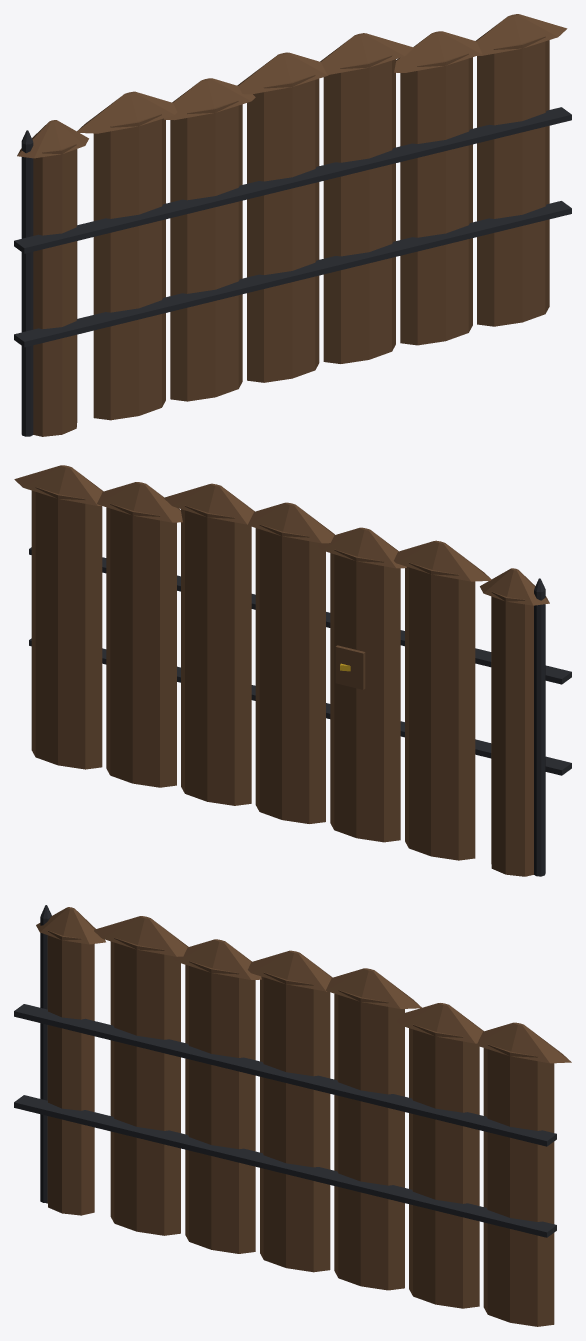
File: SM_Fence_KeepPalisade_03_Straight.glb
3 views of the same model, one above another, from view 1: azimuth 30°, elevation 25°; view 2: azimuth 150°, elevation 25°; view 3: azimuth 330°, elevation 25° (orthographic). The views are drawn at different scales.
Parts seen in each view (by area): view 1: SM_Fence_KeepPalisade_03_Straight_Log4, SM_Fence_KeepPalisade_03_Straight_Log3, SM_Fence_KeepPalisade_03_Straight_Log1, SM_Fence_KeepPalisade_03_Straight_Log2, SM_Fence_KeepPalisade_03_Straight_Log5, SM_Fence_KeepPalisade_03_Straight_Log6, SM_Fence_KeepPalisade_03_Straight_Log0, SM_Fence_KeepPalisade_03_Straight_Strap1, SM_Fence_KeepPalisade_03_Straight_Strap0, SM_Fence_KeepPalisade_03_Straight_Pivot, SM_Fence_KeepPalisade_03_Straight_Log1_Tip, SM_Fence_KeepPalisade_03_Straight_Log4_Tip (+5 smaller); view 2: SM_Fence_KeepPalisade_03_Straight_Log4, SM_Fence_KeepPalisade_03_Straight_Log3, SM_Fence_KeepPalisade_03_Straight_Log1, SM_Fence_KeepPalisade_03_Straight_Log6, SM_Fence_KeepPalisade_03_Straight_Log5, SM_Fence_KeepPalisade_03_Straight_Log2, SM_Fence_KeepPalisade_03_Straight_Log0, SM_Fence_KeepPalisade_03_Straight_Pivot, SM_Fence_KeepPalisade_03_Straight_Log1_Tip, SM_Fence_KeepPalisade_03_Straight_Log4_Tip, SM_Fence_KeepPalisade_03_Straight_Log3_Tip, SM_Fence_KeepPalisade_03_Straight_Log5_Tip (+6 smaller); view 3: SM_Fence_KeepPalisade_03_Straight_Log3, SM_Fence_KeepPalisade_03_Straight_Log4, SM_Fence_KeepPalisade_03_Straight_Log1, SM_Fence_KeepPalisade_03_Straight_Log2, SM_Fence_KeepPalisade_03_Straight_Log6, SM_Fence_KeepPalisade_03_Straight_Log5, SM_Fence_KeepPalisade_03_Straight_Log0, SM_Fence_KeepPalisade_03_Straight_Strap1, SM_Fence_KeepPalisade_03_Straight_Strap0, SM_Fence_KeepPalisade_03_Straight_Log1_Tip, SM_Fence_KeepPalisade_03_Straight_Log4_Tip, SM_Fence_KeepPalisade_03_Straight_Log6_Tip (+5 smaller).
Part boxes in pixels (box(x1,y1,x2,y2)): SM_Fence_KeepPalisade_03_Straight_Log4: box(323, 55, 395, 363); SM_Fence_KeepPalisade_03_Straight_Log3: box(247, 75, 319, 382); SM_Fence_KeepPalisade_03_Straight_Log1: box(93, 114, 165, 420); SM_Fence_KeepPalisade_03_Straight_Log2: box(170, 100, 242, 401); SM_Fence_KeepPalisade_03_Straight_Log5: box(400, 53, 472, 345); SM_Fence_KeepPalisade_03_Straight_Log6: box(477, 36, 549, 326); SM_Fence_KeepPalisade_03_Straight_Log0: box(33, 144, 77, 436); SM_Fence_KeepPalisade_03_Straight_Strap1: box(14, 107, 571, 253); SM_Fence_KeepPalisade_03_Straight_Strap0: box(14, 201, 571, 347); SM_Fence_KeepPalisade_03_Straight_Pivot: box(21, 142, 33, 436); SM_Fence_KeepPalisade_03_Straight_Log1_Tip: box(77, 91, 177, 133); SM_Fence_KeepPalisade_03_Straight_Log4_Tip: box(320, 33, 413, 74); SM_Fence_KeepPalisade_03_Straight_Log4: box(181, 505, 251, 805); SM_Fence_KeepPalisade_03_Straight_Log3: box(255, 524, 325, 823); SM_Fence_KeepPalisade_03_Straight_Log1: box(405, 562, 475, 860); SM_Fence_KeepPalisade_03_Straight_Log6: box(31, 487, 102, 769); SM_Fence_KeepPalisade_03_Straight_Log5: box(106, 503, 176, 787); SM_Fence_KeepPalisade_03_Straight_Log2: box(330, 549, 400, 842); SM_Fence_KeepPalisade_03_Straight_Log0: box(491, 592, 533, 876); SM_Fence_KeepPalisade_03_Straight_Pivot: box(534, 589, 545, 876); SM_Fence_KeepPalisade_03_Straight_Log1_Tip: box(394, 540, 491, 581); SM_Fence_KeepPalisade_03_Straight_Log4_Tip: box(164, 483, 254, 524); SM_Fence_KeepPalisade_03_Straight_Log3_Tip: box(246, 502, 334, 543); SM_Fence_KeepPalisade_03_Straight_Log5_Tip: box(97, 482, 182, 522); SM_Fence_KeepPalisade_03_Straight_Log3: box(260, 972, 330, 1272); SM_Fence_KeepPalisade_03_Straight_Log4: box(334, 990, 404, 1290); SM_Fence_KeepPalisade_03_Straight_Log1: box(110, 938, 180, 1235); SM_Fence_KeepPalisade_03_Straight_Log2: box(185, 961, 255, 1253); SM_Fence_KeepPalisade_03_Straight_Log6: box(483, 1044, 554, 1326); SM_Fence_KeepPalisade_03_Straight_Log5: box(409, 1024, 479, 1308); SM_Fence_KeepPalisade_03_Straight_Log0: box(47, 930, 94, 1215); SM_Fence_KeepPalisade_03_Straight_Strap1: box(14, 1004, 556, 1146); SM_Fence_KeepPalisade_03_Straight_Strap0: box(14, 1095, 556, 1237); SM_Fence_KeepPalisade_03_Straight_Log1_Tip: box(94, 916, 188, 956); SM_Fence_KeepPalisade_03_Straight_Log4_Tip: box(326, 968, 421, 1008); SM_Fence_KeepPalisade_03_Straight_Log6_Tip: box(473, 1022, 571, 1063).
Size of the model in its own units: 3.12 by 1.7 by 0.3234.
